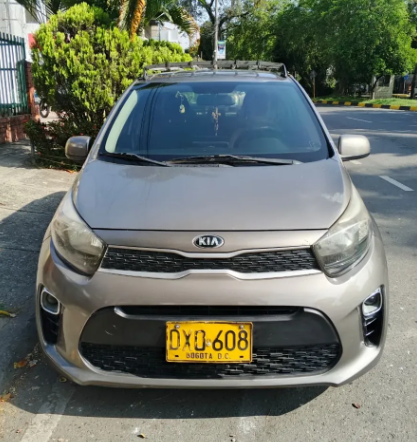placa: (165, 320, 253, 364)
